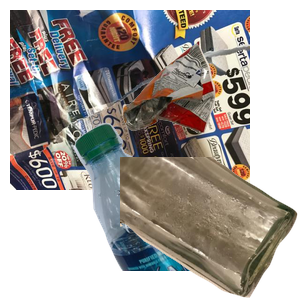glass: (120, 157, 300, 300)
paper: (10, 10, 250, 190)
plastic: (71, 120, 300, 300)
trash: (120, 38, 300, 164)
